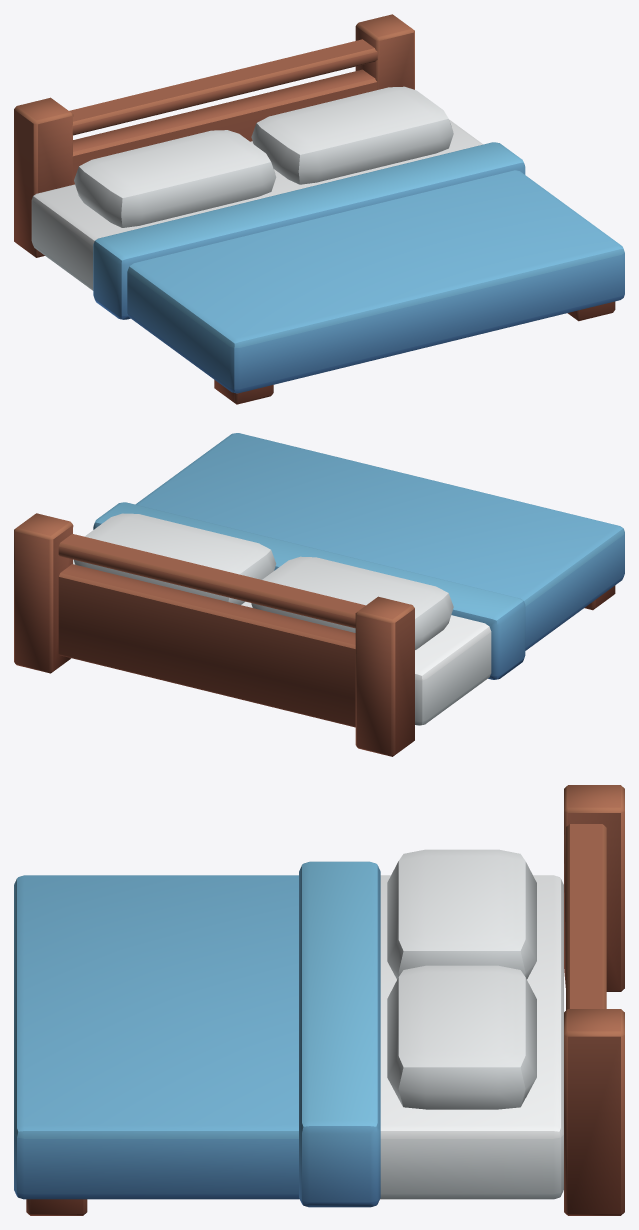
The model's file is bed.glb.
3 renders of one model, top to bottom at view 1: azimuth 30°, elevation 25°; view 2: azimuth 150°, elevation 25°; view 3: azimuth 270°, elevation 25°, orthographic. The views are drawn at different scales.
Parts seen in each view (by area): view 1: Node1; view 2: Node1; view 3: Node1.
Boxes of the visible parts, x1,y1,x2,y2 form: Node1: (14, 14, 624, 404); Node1: (14, 433, 624, 756); Node1: (14, 785, 624, 1215).
Size of the model in its own units: 3.1 by 1 by 3.
Materials: 1 (1 with a texture image).
